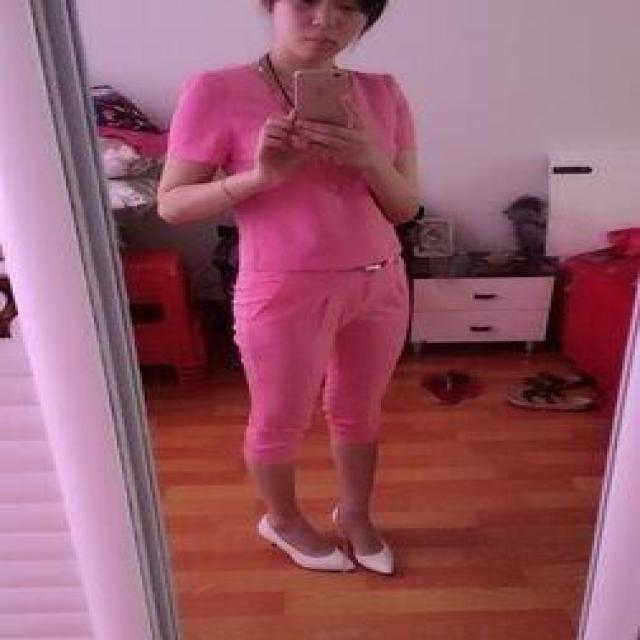short sleeve top: (170, 66, 419, 272)
trousers: (239, 251, 406, 459)
